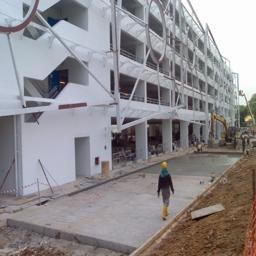hat: (156, 159, 174, 177)
no vest: (155, 173, 183, 202)
